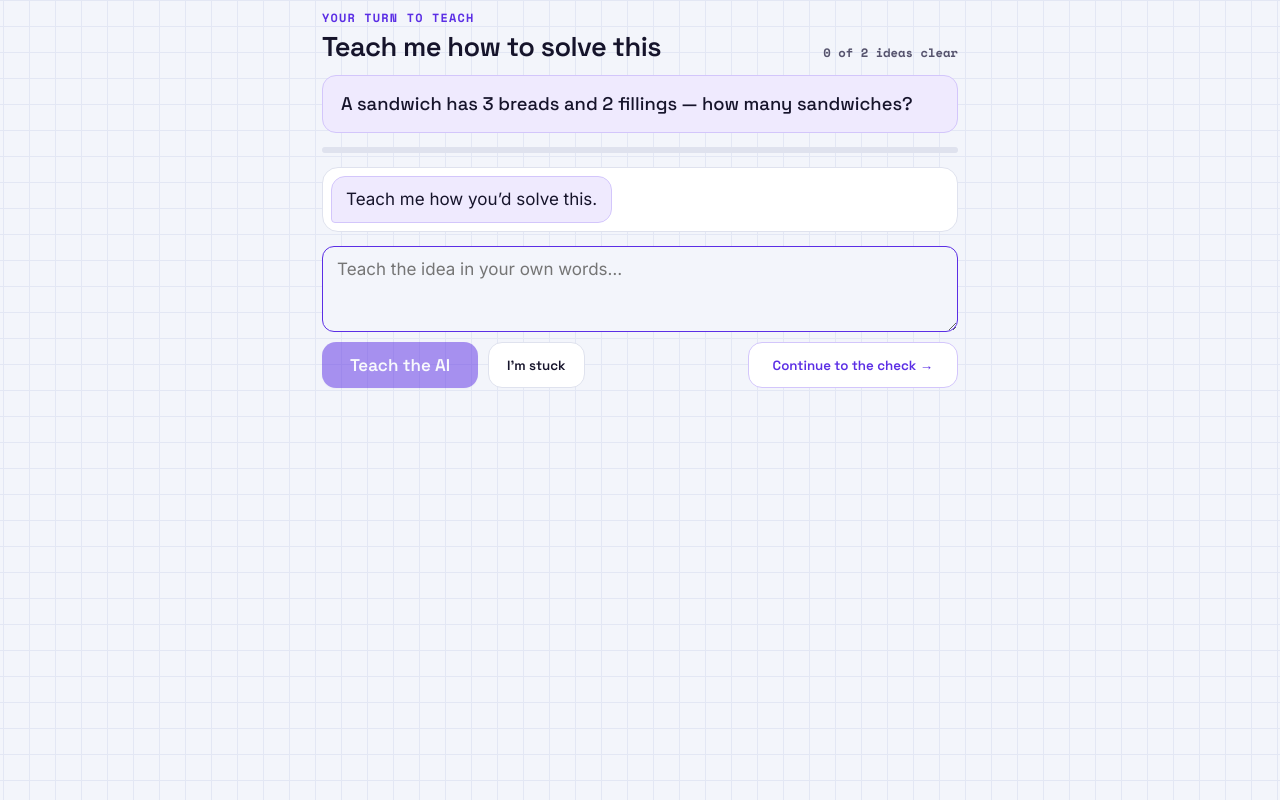
Test case: TeachBackStep › shows the AI correction and surfaces fixes when the explanation is incomplete
This screenshot has width=1280, height=800.
In the text box with placeholder "Teach the idea in your own words…": (640, 290) top-left (322, 246), bottom-right (958, 332), type "my partial explanation"
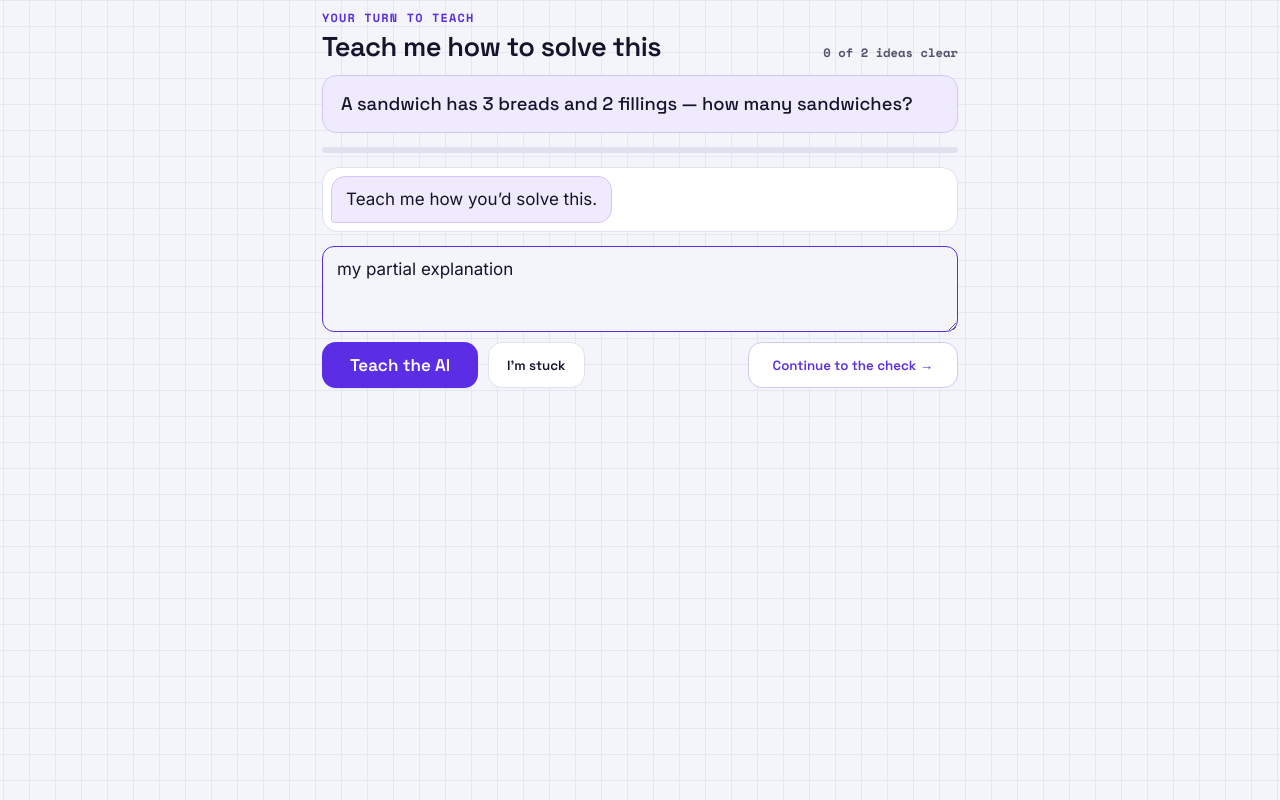
Click the button "Teach the AI": (400, 366) top-left (322, 342), bottom-right (478, 388)
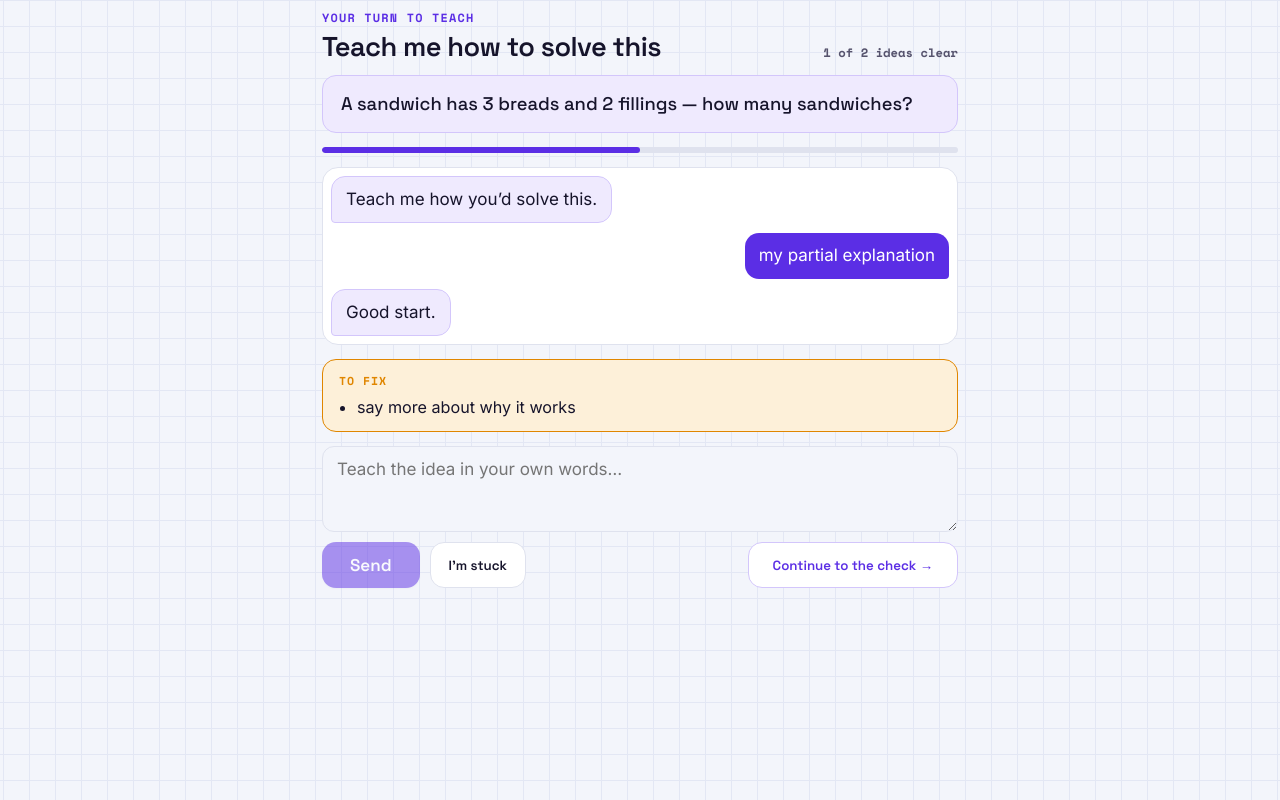
Expected: the button "Continue to the check →" is shown, top-left (748, 542), bottom-right (958, 588)
Result: the text "Good start." is shown at top-left (331, 289), bottom-right (451, 336)
Result: the list item "say more about why it works" is shown at top-left (357, 397), bottom-right (576, 417)
